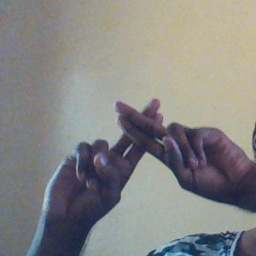F: (83, 88, 206, 187)
